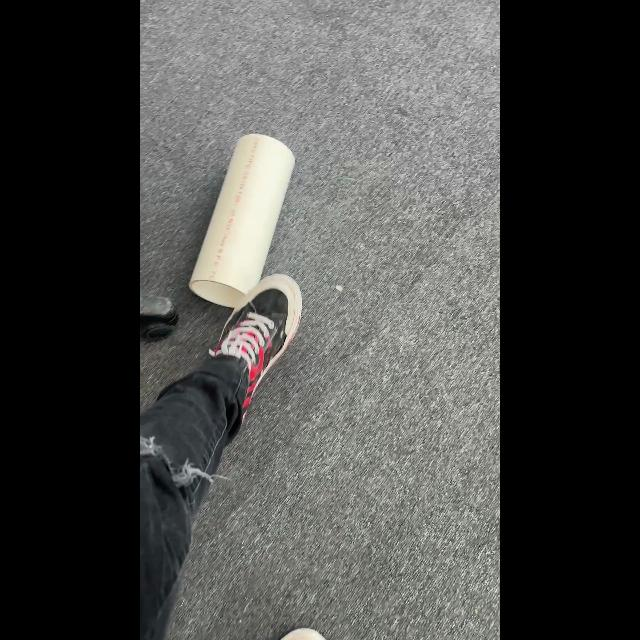CORAL: (188, 132, 296, 308)
